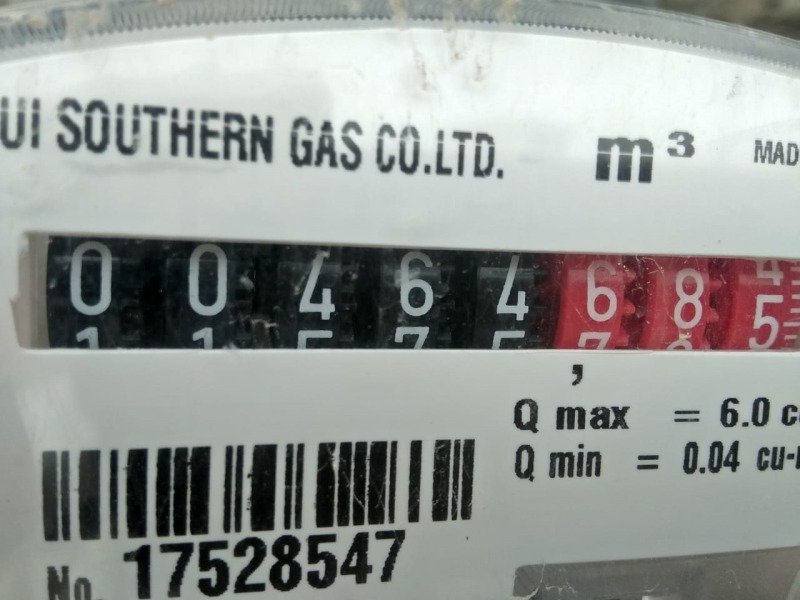ssgc: (24, 227, 799, 359)
